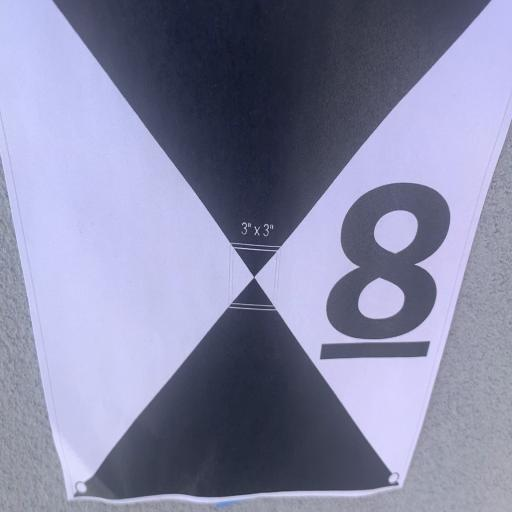target8: (0, 0, 511, 500)
